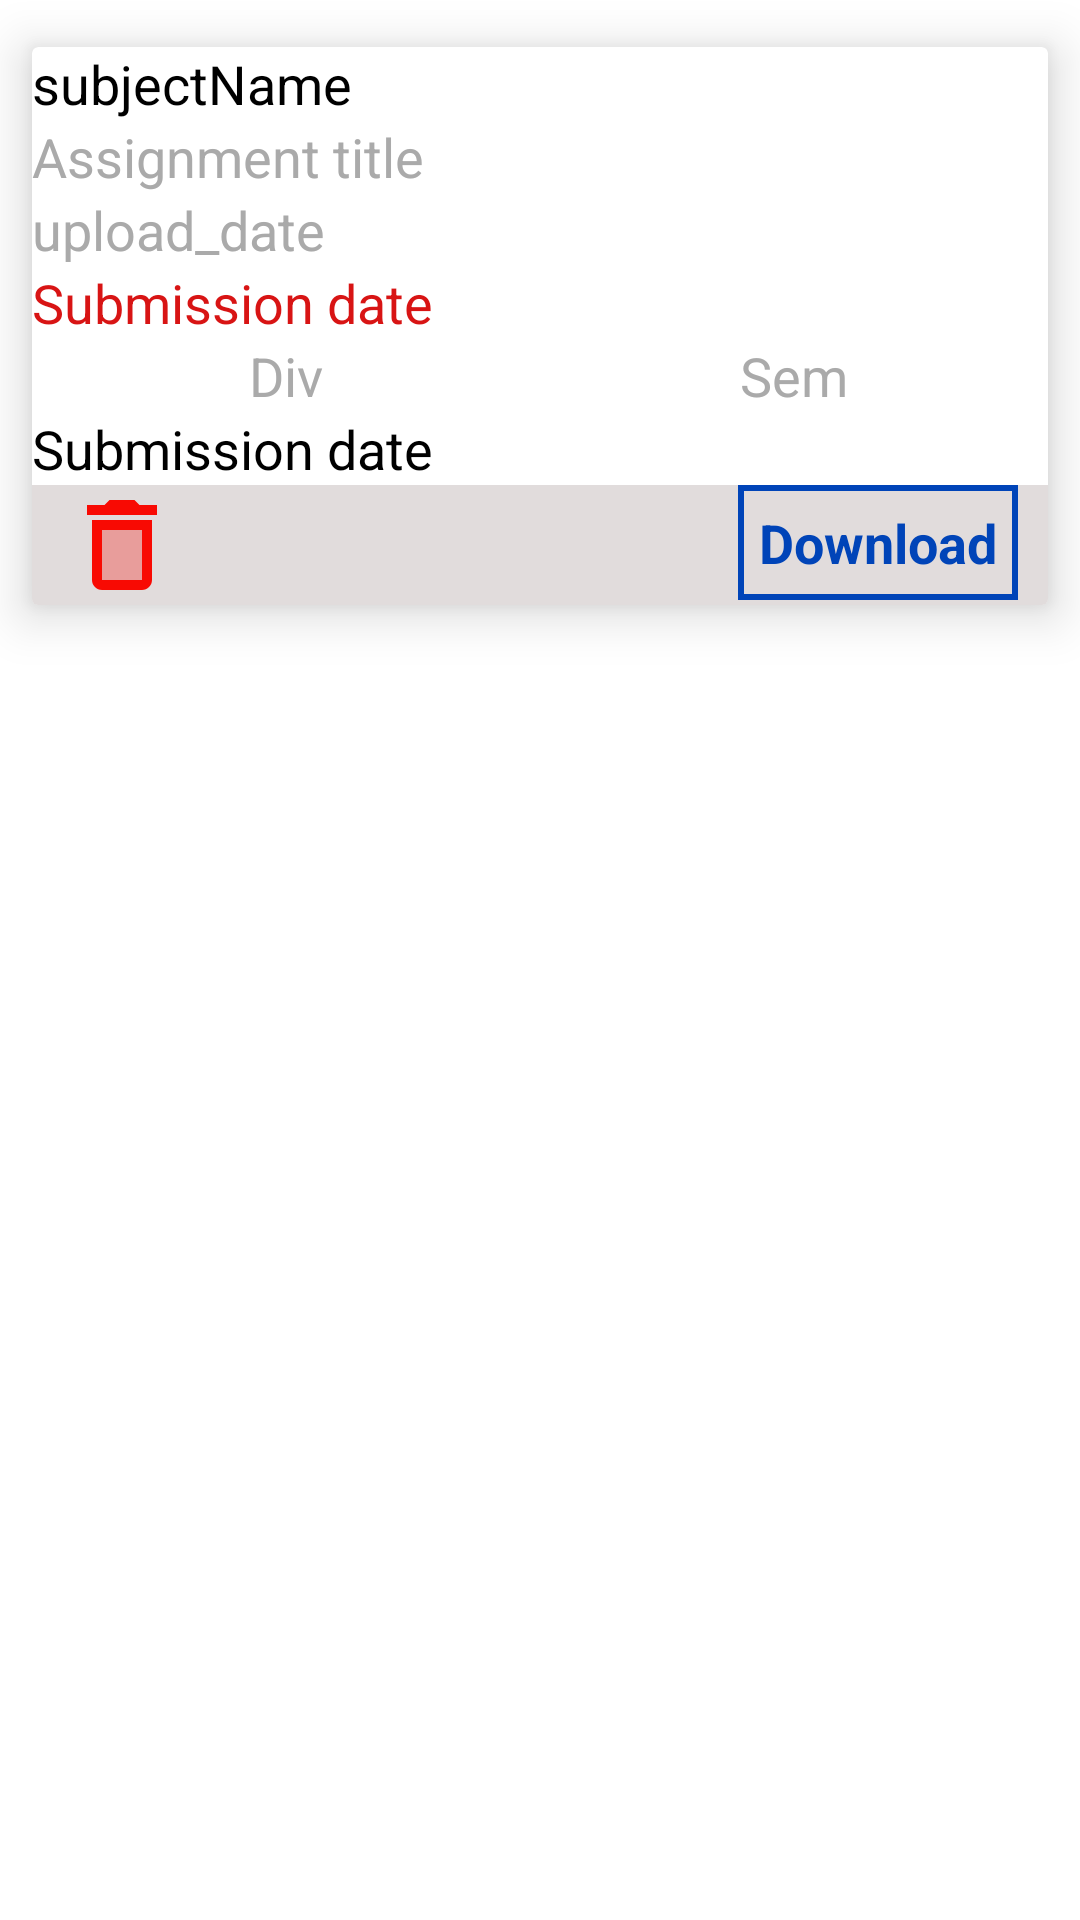

Named icons in this screenshot (1080*1920) and their centers, (x=x, y=y):
delete: (x=122, y=545)
